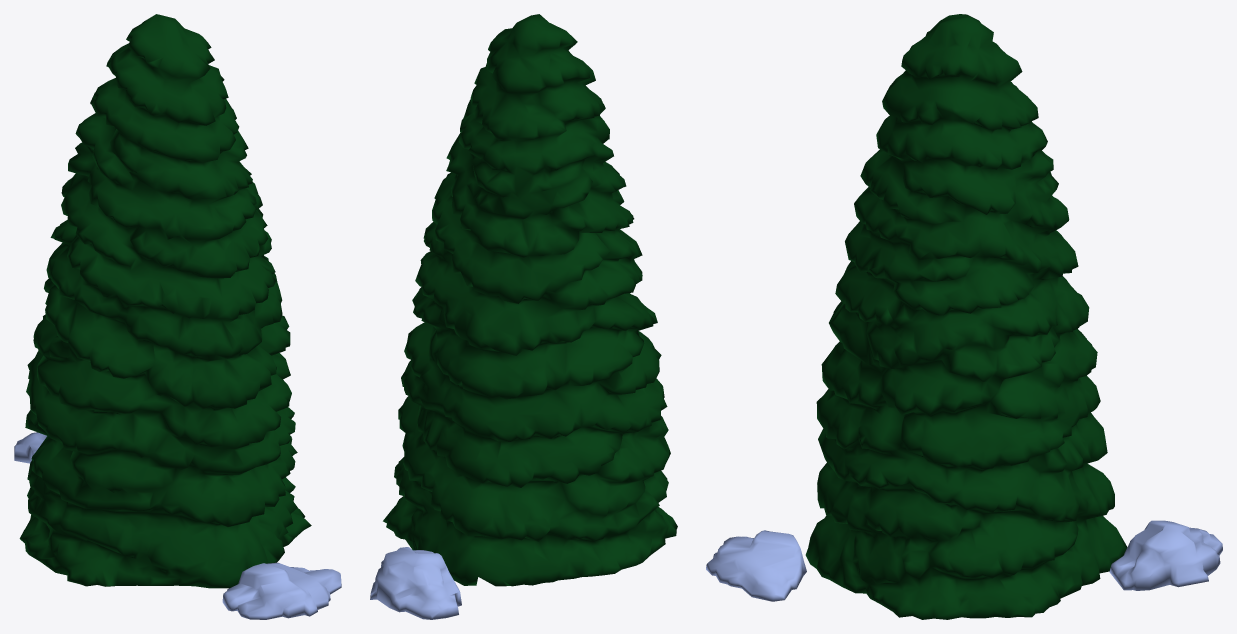
Rendered from forest-tree15-colored-lowpoly.glb.
The picture shows the model from 3 angles, left to right: view 1: azimuth 30°, elevation 25°; view 2: azimuth 150°, elevation 25°; view 3: azimuth 270°, elevation 25°; orthographic projection. The views are drawn at different scales.
Parts seen in each view (by area): view 1: Tree_large_rocks_scanned.001; view 2: Tree_large_rocks_scanned.001; view 3: Tree_large_rocks_scanned.001.
Part boxes in pixels (x1,y1,x2,y2): Tree_large_rocks_scanned.001: (14,14,341,619); Tree_large_rocks_scanned.001: (370,14,677,619); Tree_large_rocks_scanned.001: (706,14,1222,619).
Bounding box in the file's own units: 2.55 × 5.09 × 4.42.
